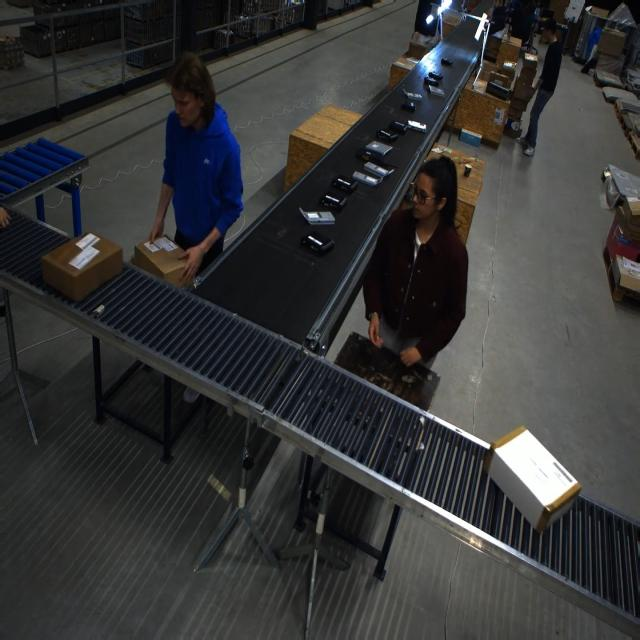box: (471, 414, 589, 531), (32, 218, 126, 296), (131, 226, 202, 294)
product: (298, 228, 344, 263), (355, 145, 395, 168), (362, 161, 394, 180), (299, 208, 333, 225), (351, 171, 382, 188), (319, 193, 347, 211), (331, 175, 357, 193), (374, 125, 400, 142), (386, 120, 407, 135), (406, 119, 426, 133), (425, 71, 443, 86), (402, 88, 422, 101), (427, 86, 445, 98), (401, 100, 416, 112), (463, 164, 472, 177), (440, 57, 453, 65)
